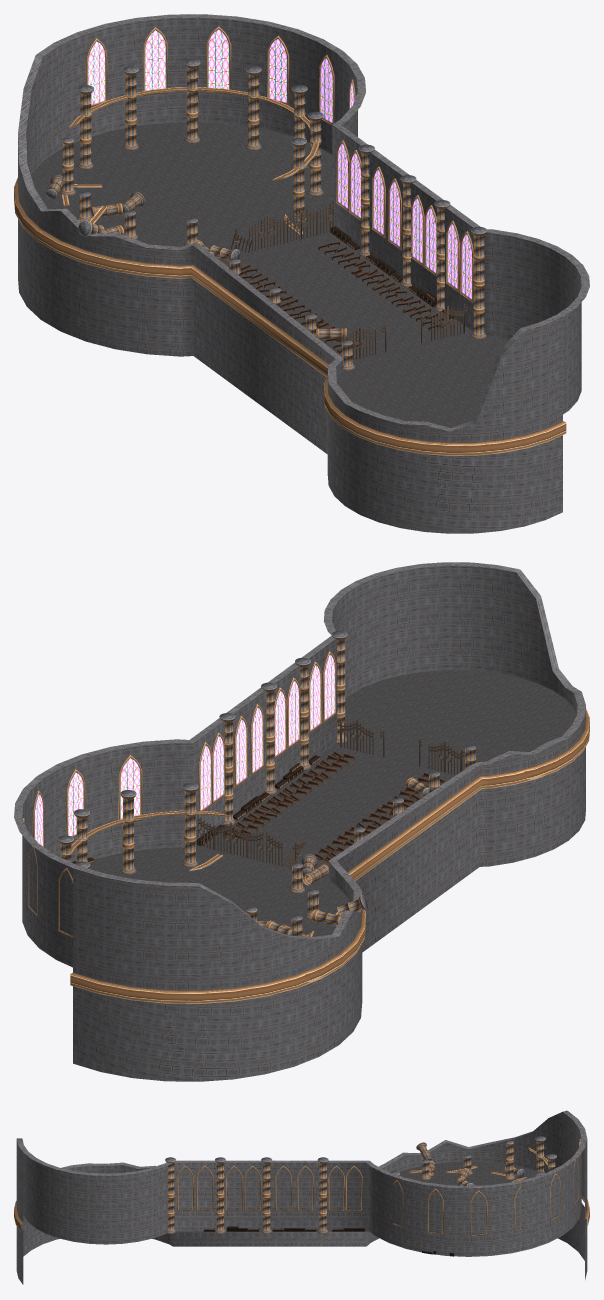
Rendered from level3.gltf.
The picture shows the model from 3 angles, top to bottom: view 1: azimuth 30°, elevation 25°; view 2: azimuth 150°, elevation 25°; view 3: azimuth 270°, elevation 25°; orthographic projection. The views are drawn at different scales.
Parts seen in each view (by area): view 1: Cylinder.011, Cylinder.007, Cylinder.013, Cylinder.023, Cylinder.012, Marco_low.012, Marco_low.009, Marco_low.010, Circle, Marco_low.011, Marco_low.008, Marco_low (+8 smaller); view 2: Cylinder.011, Cylinder.013, Cylinder.007, Cylinder.012, Cylinder.023, Marco_low.016, Marco_low.014, Marco_low, Marco_low.004, Marco_low.007, Marco_low.005, Marco_low.002 (+3 smaller); view 3: Cylinder.011, Cylinder.013, Cylinder.023, Cylinder.007, Cylinder.050, Cylinder.047, Cylinder.008, Cylinder.074.
Boxes of the visible parts, x1,y1,x2,y2 form: Cylinder.011: [18, 17, 581, 442]; Cylinder.007: [31, 122, 509, 427]; Cylinder.013: [18, 219, 562, 533]; Cylinder.023: [18, 14, 589, 431]; Cylinder.012: [14, 177, 566, 455]; Marco_low.012: [206, 26, 231, 94]; Marco_low.009: [143, 27, 167, 95]; Marco_low.010: [267, 36, 289, 105]; Circle: [69, 87, 319, 180]; Marco_low.011: [86, 38, 107, 106]; Marco_low.008: [319, 55, 334, 124]; Marco_low: [460, 231, 473, 302]; Cylinder.011: [22, 565, 585, 990]; Cylinder.013: [73, 747, 585, 1081]; Cylinder.007: [88, 670, 576, 936]; Cylinder.012: [70, 708, 589, 1003]; Cylinder.023: [14, 562, 585, 939]; Marco_low.016: [118, 755, 142, 823]; Marco_low.014: [66, 769, 85, 837]; Marco_low: [322, 651, 336, 722]; Marco_low.004: [250, 704, 264, 775]; Marco_low.007: [198, 742, 212, 810]; Marco_low.005: [234, 716, 247, 787]; Marco_low.002: [286, 677, 300, 748]; Cylinder.011: [16, 1112, 587, 1256]; Cylinder.013: [16, 1203, 587, 1284]; Cylinder.023: [16, 1110, 587, 1188]; Cylinder.007: [399, 1161, 536, 1185]; Cylinder.050: [216, 1177, 224, 1216]; Cylinder.047: [262, 1177, 270, 1216]; Cylinder.008: [319, 1177, 326, 1216]; Cylinder.074: [168, 1177, 174, 1216].
Size of the model in its own units: 50.88 by 31.32 by 122.
Materials: 9 (9 with a texture image).
